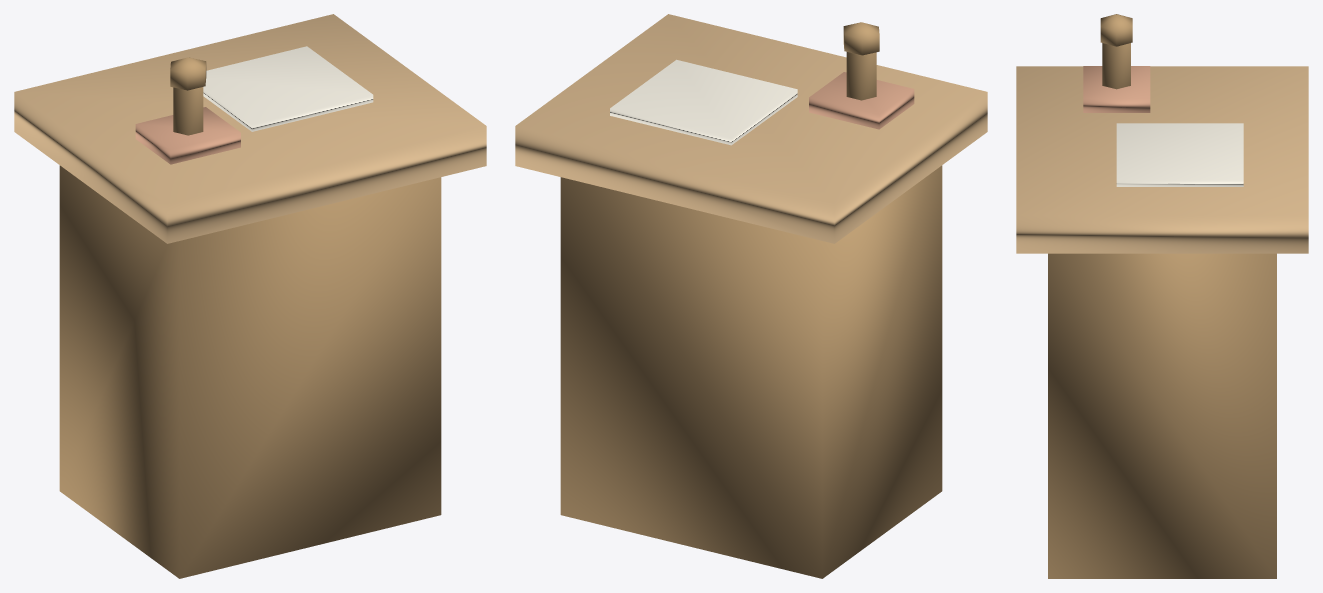
Rendered from attendance_low.glb.
The picture shows the model from 3 angles, left to right: view 1: azimuth 30°, elevation 25°; view 2: azimuth 150°, elevation 25°; view 3: azimuth 270°, elevation 25°; orthographic projection. The views are drawn at different scales.
Bounding box in the file's own units: 1 × 1.45 × 0.83.
